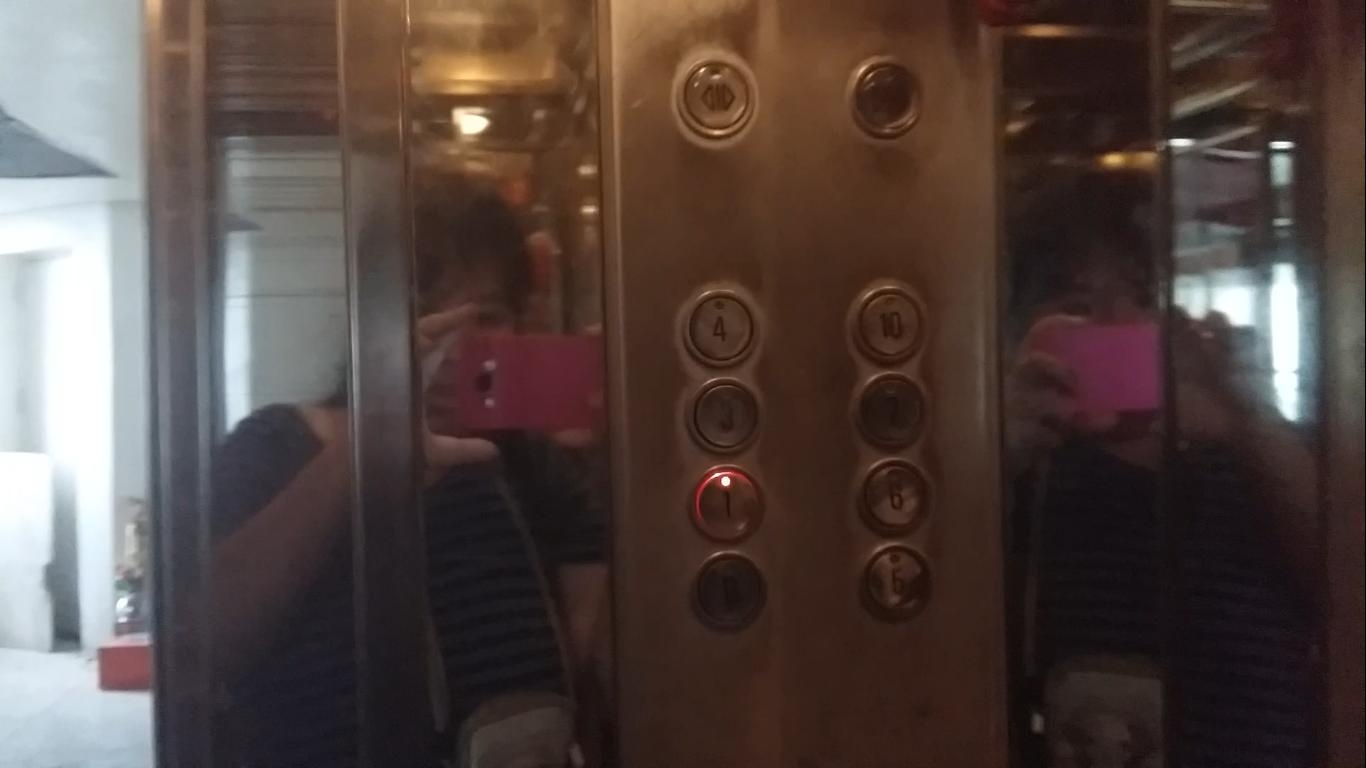1: (684, 462, 769, 544)
10: (846, 281, 930, 366)
3: (685, 375, 764, 454)
4: (679, 287, 760, 370)
5: (856, 542, 934, 620)
6: (855, 456, 932, 537)
7: (849, 369, 934, 453)
blur: (845, 56, 926, 143), (688, 549, 765, 634)
open: (673, 55, 760, 143)
